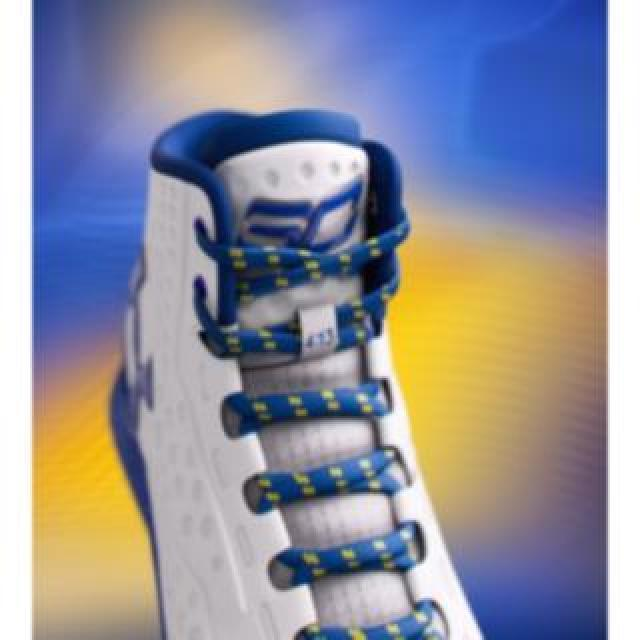shoes: (109, 110, 489, 640)
